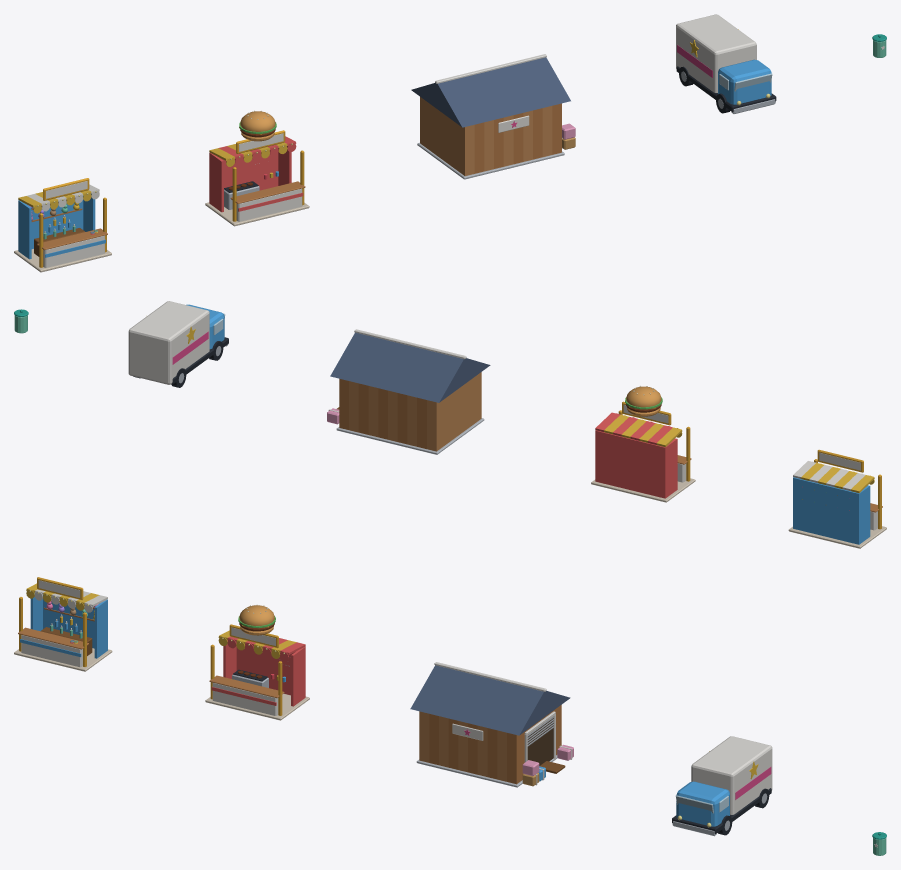
The model's file is park-midway.glb.
3 renders of one model, top to bottom at view 1: azimuth 30°, elevation 25°; view 2: azimuth 150°, elevation 25°; view 3: azimuth 330°, elevation 25°, orthographic.
Visible parts, largest first — view 1: pk_shed_mesh, pk_burger_mesh, pk_ringtoss_mesh, pk_truck_mesh, pk_burger_burger_mesh; view 2: pk_shed_mesh, pk_burger_mesh, pk_ringtoss_mesh, pk_truck_mesh, pk_burger_burger_mesh; view 3: pk_shed_mesh, pk_burger_mesh, pk_ringtoss_mesh, pk_truck_mesh, pk_burger_burger_mesh.
Part boxes in pixels (x1,y1,x2,y2): pk_shed_mesh: (411,54,575,179); pk_burger_mesh: (205,130,309,226); pk_ringtoss_mesh: (14,178,111,272); pk_truck_mesh: (676,14,776,113); pk_burger_burger_mesh: (239,110,276,141); pk_shed_mesh: (327,329,490,454); pk_burger_mesh: (591,401,695,502); pk_ringtoss_mesh: (788,449,886,548); pk_truck_mesh: (128,301,228,384); pk_burger_burger_mesh: (625,386,662,416); pk_shed_mesh: (410,662,573,787); pk_burger_mesh: (205,624,309,720); pk_ringtoss_mesh: (14,577,112,671); pk_truck_mesh: (672,736,772,836); pk_burger_burger_mesh: (238,604,275,635).
Bounding box in the file's own units: 44.17 × 4.61 × 5.22.
